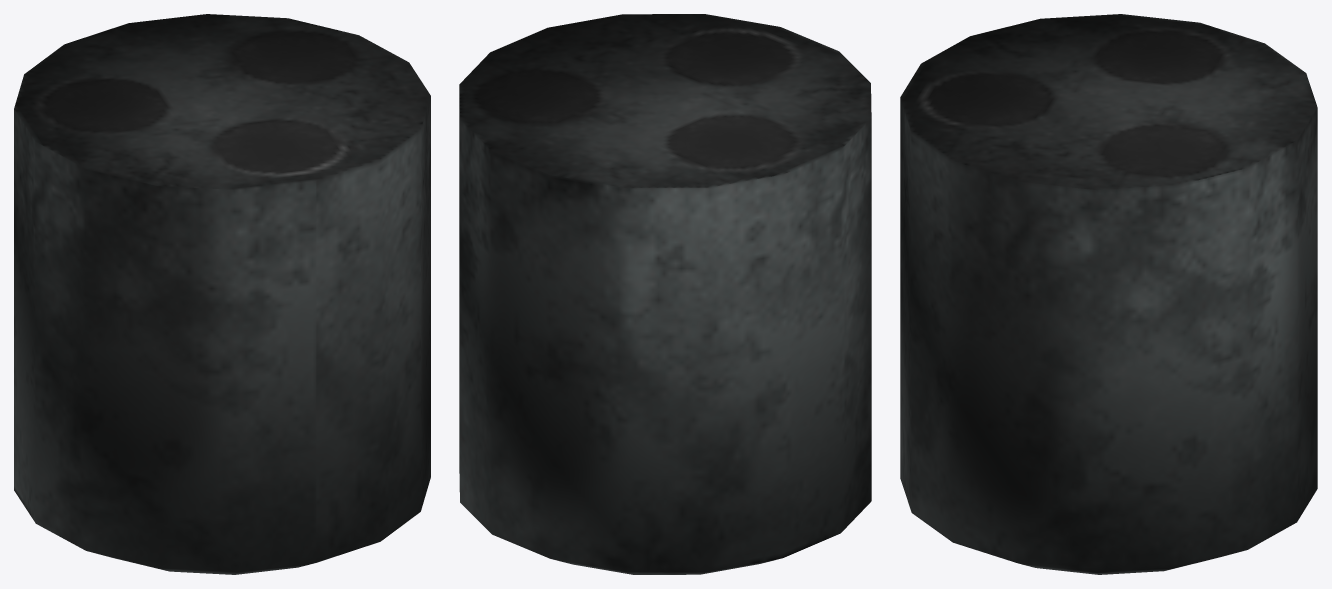
The model's file is TLOG_ElDiabloExpandedMag.fbx.
3 views of the same model, side by side, from view 1: azimuth 30°, elevation 25°; view 2: azimuth 150°, elevation 25°; view 3: azimuth 270°, elevation 25° (orthographic).
Visible parts, largest first — view 1: Cylinder; view 2: Cylinder; view 3: Cylinder.
Part boxes in pixels (left/top/right/bottom): Cylinder: left=14, top=14, right=430, bottom=574; Cylinder: left=459, top=14, right=871, bottom=574; Cylinder: left=900, top=14, right=1317, bottom=574.
Bounding box in the file's own units: 0.0407 × 0.0433 × 0.0407.
